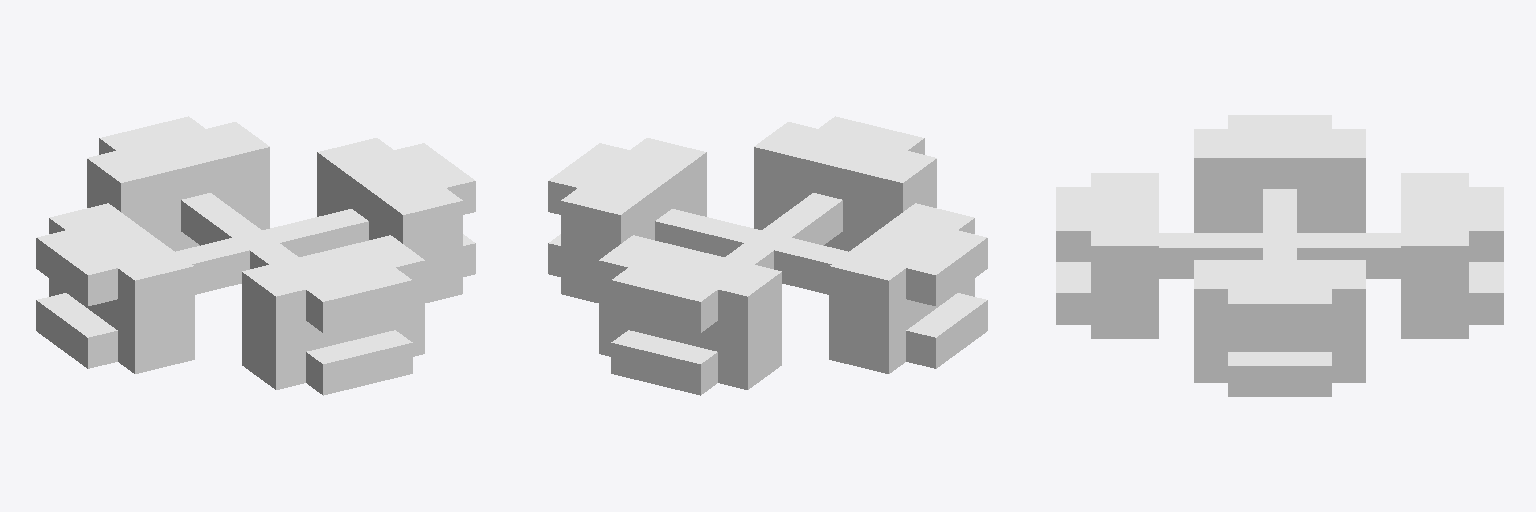
File: spreaderTop.obj
3 renders of one model, left to right at view 1: azimuth 30°, elevation 25°; view 2: azimuth 150°, elevation 25°; view 3: azimuth 270°, elevation 25°, orthographic.
Size of the model in its own units: 0.52 by 0.12 by 0.52.